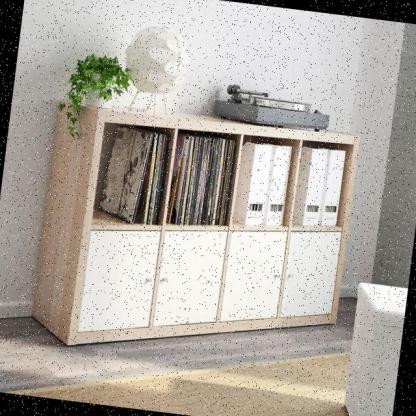Shelf: (24, 94, 363, 382)
